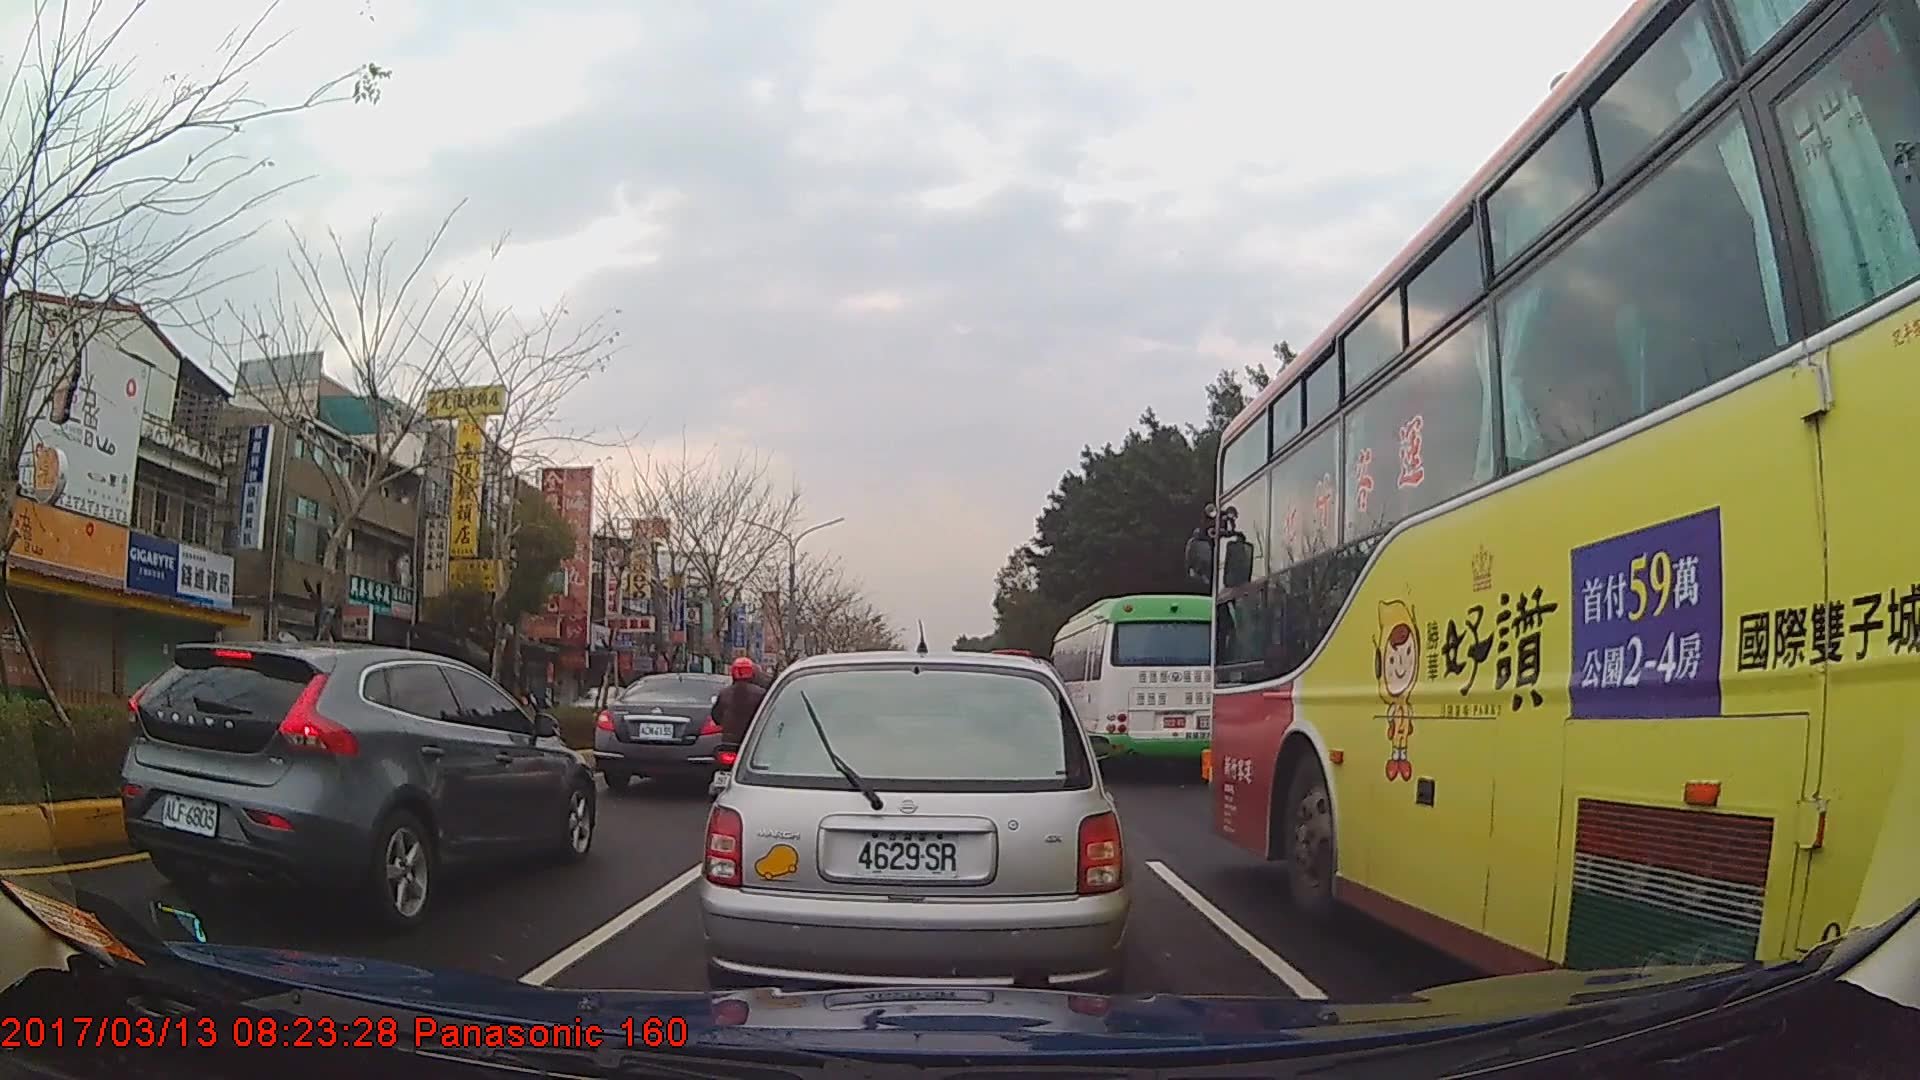rider: (710, 655, 783, 819)
vehicle: (1211, 0, 1920, 1012), (698, 647, 1130, 999), (115, 639, 595, 930), (1052, 592, 1229, 783), (597, 670, 765, 794)
